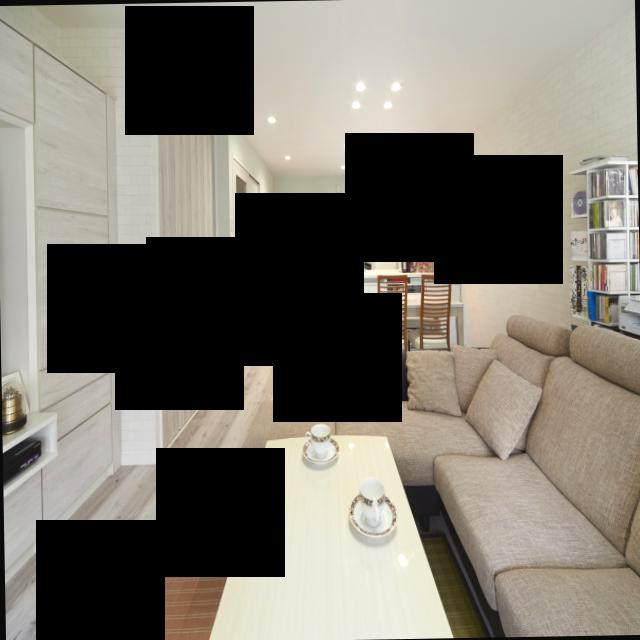natural chair: (414, 268, 456, 352), (376, 271, 412, 351)
natural desk: (199, 425, 428, 640)
natural sofa: (435, 310, 640, 637)
